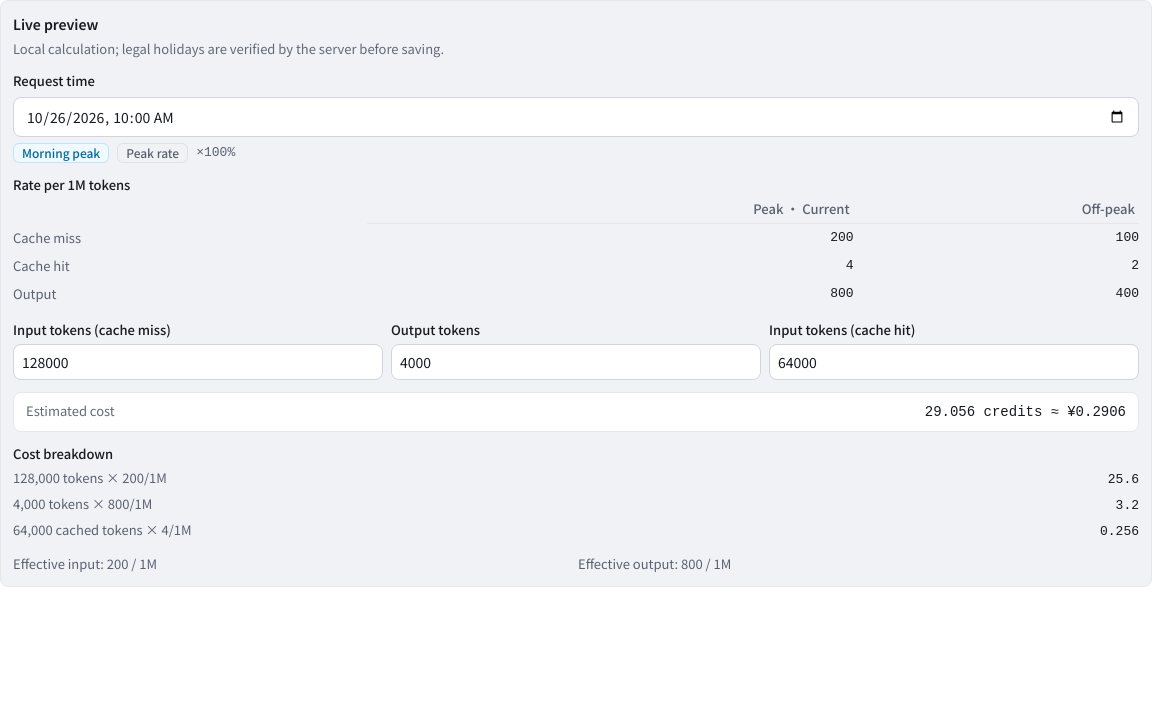
StrategyPreview › computes peak and off-peak totals locally
The width and height of the screenshot is (1152, 720).
Expected: the text "Morning peak" is shown, [13, 143, 109, 163]
Expected: the text with test id "strategy-preview-total-credits" shows "29.056", [925, 404, 1042, 420]
Replace the text in the field labelled "Request time" with "2026-10-26T21:00". click: coordinates (576, 117)
box: [13, 97, 1139, 137]
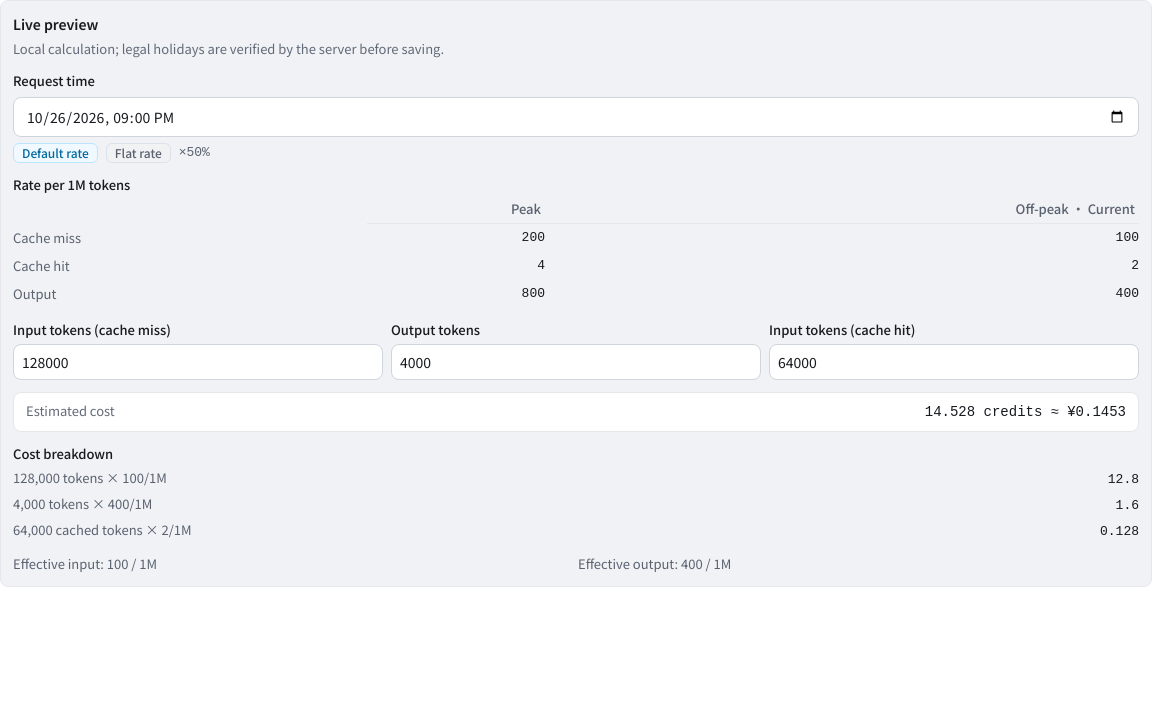
Now the text "Default rate" is shown, box [13, 143, 98, 163]
Now the text with test id "strategy-preview-total-credits" shows "14.528", box [925, 404, 1042, 420]
